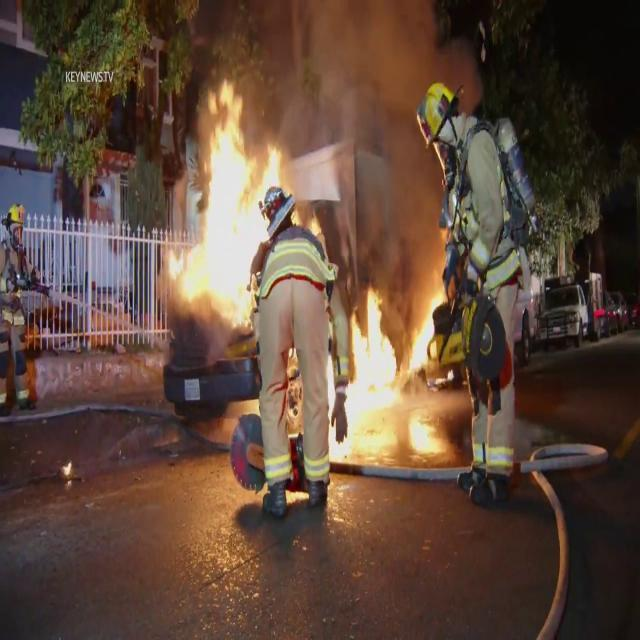Fire: (162, 82, 288, 324), (332, 282, 448, 466)
Smoke: (268, 0, 454, 244)
